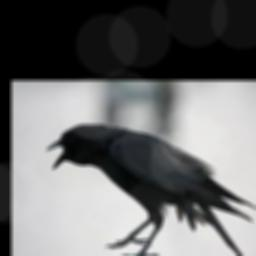Crow: (45, 122, 256, 256)
